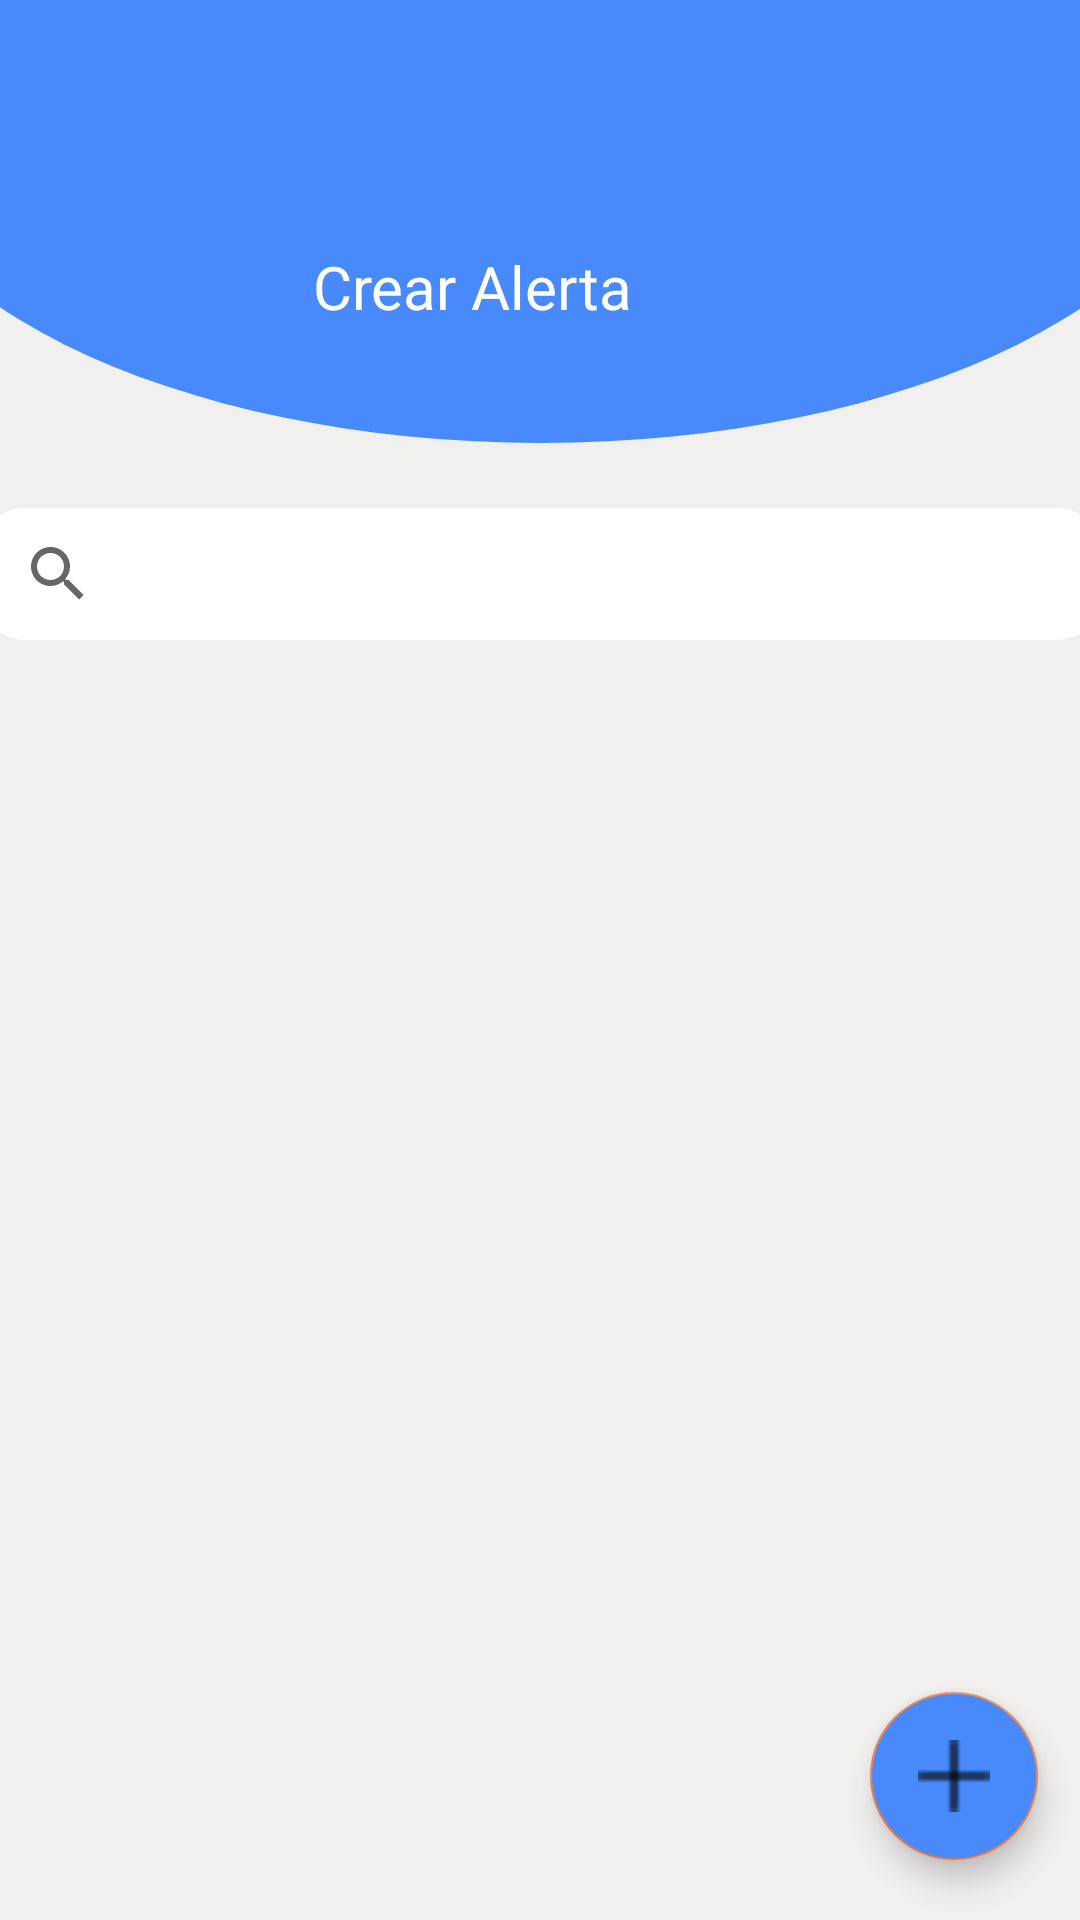

Named icons in this screenshot (1080 × 1920) and their bounding boxes, (x1, y1, x2, y2):
Agregar: (870, 1692, 1038, 1860)
